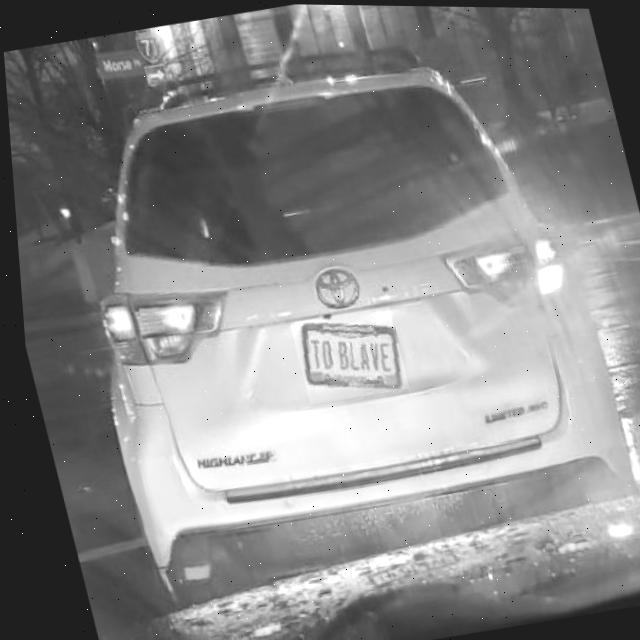LicensePlate: (295, 320, 396, 388)
